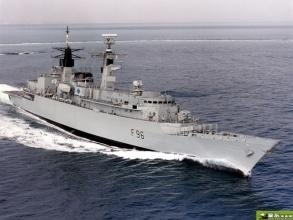warship: (5, 25, 278, 174)
